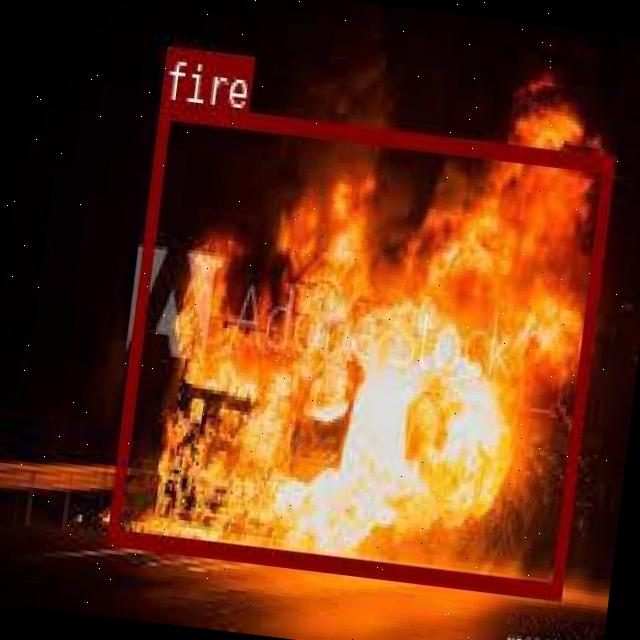fire: (104, 100, 612, 595)
